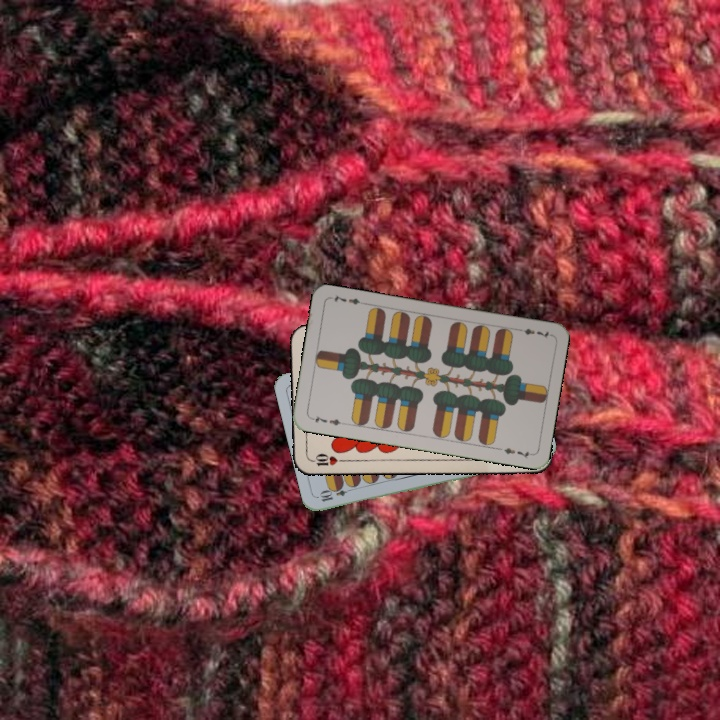E10: (316, 483, 356, 504)
E7: (307, 411, 347, 428), (513, 324, 553, 341)
H10: (307, 450, 347, 468)
